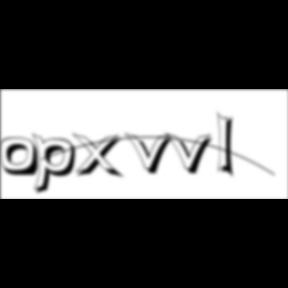I: (217, 110, 241, 182)
o: (0, 137, 42, 179)
p: (33, 132, 83, 198)
v: (125, 131, 179, 177), (165, 131, 219, 177)
x: (72, 132, 128, 181)
